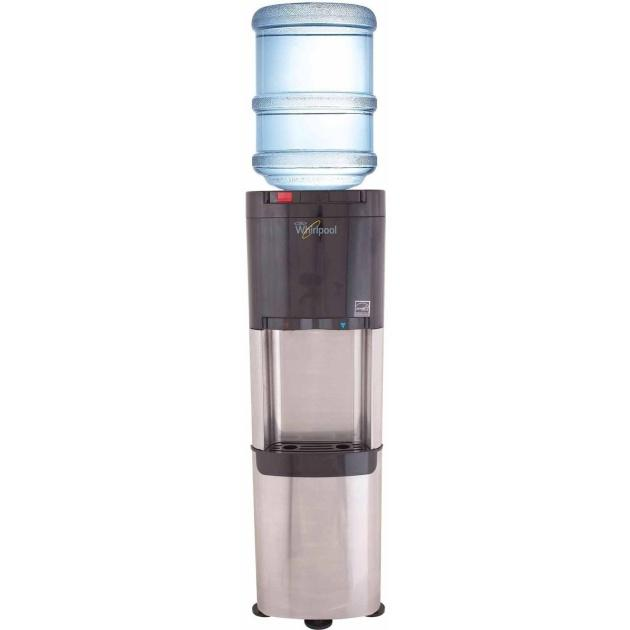Dispenser: (245, 1, 385, 620)
